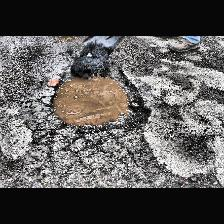pothole: (49, 61, 152, 137)
